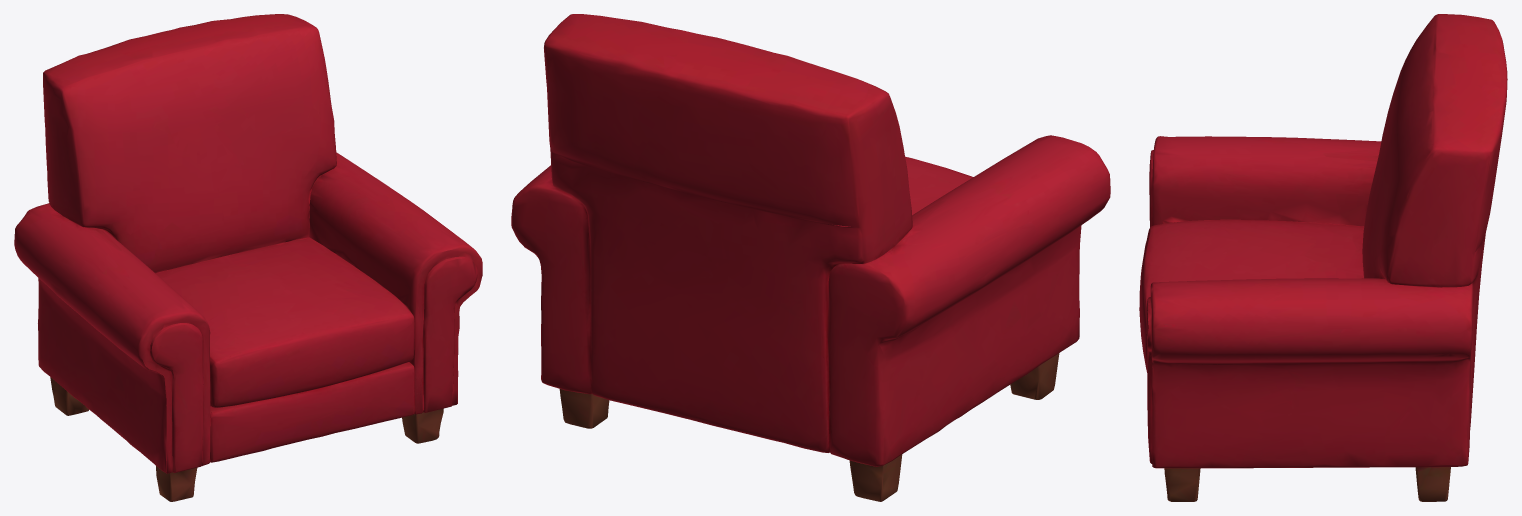
The model's file is decor_armchair_idle.glb.
3 views of the same model, side by side, from view 1: azimuth 30°, elevation 25°; view 2: azimuth 150°, elevation 25°; view 3: azimuth 270°, elevation 25° (orthographic). The views are drawn at different scales.
Parts seen in each view (by area): view 1: tripo_node_747ca909-926a-46e8-8c9b-bda3341da6a0; view 2: tripo_node_747ca909-926a-46e8-8c9b-bda3341da6a0; view 3: tripo_node_747ca909-926a-46e8-8c9b-bda3341da6a0.
Part boxes in pixels (bbox=[...]): tripo_node_747ca909-926a-46e8-8c9b-bda3341da6a0: bbox=[14, 14, 482, 501]; tripo_node_747ca909-926a-46e8-8c9b-bda3341da6a0: bbox=[511, 14, 1110, 501]; tripo_node_747ca909-926a-46e8-8c9b-bda3341da6a0: bbox=[1139, 14, 1507, 501].
Size of the model in its own units: 1.03 by 0.9499 by 0.8717.
1 material, 1 textured.
